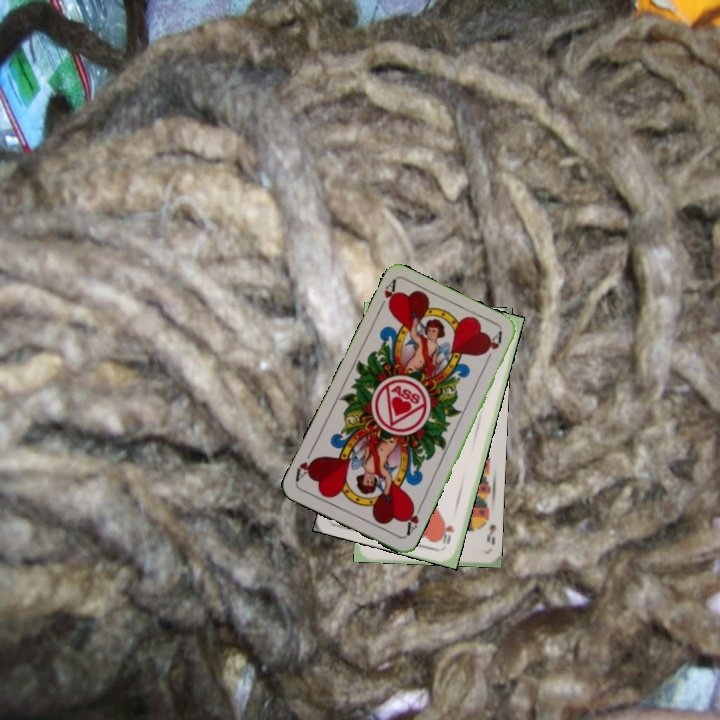HA: (374, 277, 400, 315), (401, 500, 425, 539)
HO: (438, 521, 457, 548)
S9: (479, 510, 499, 547)
